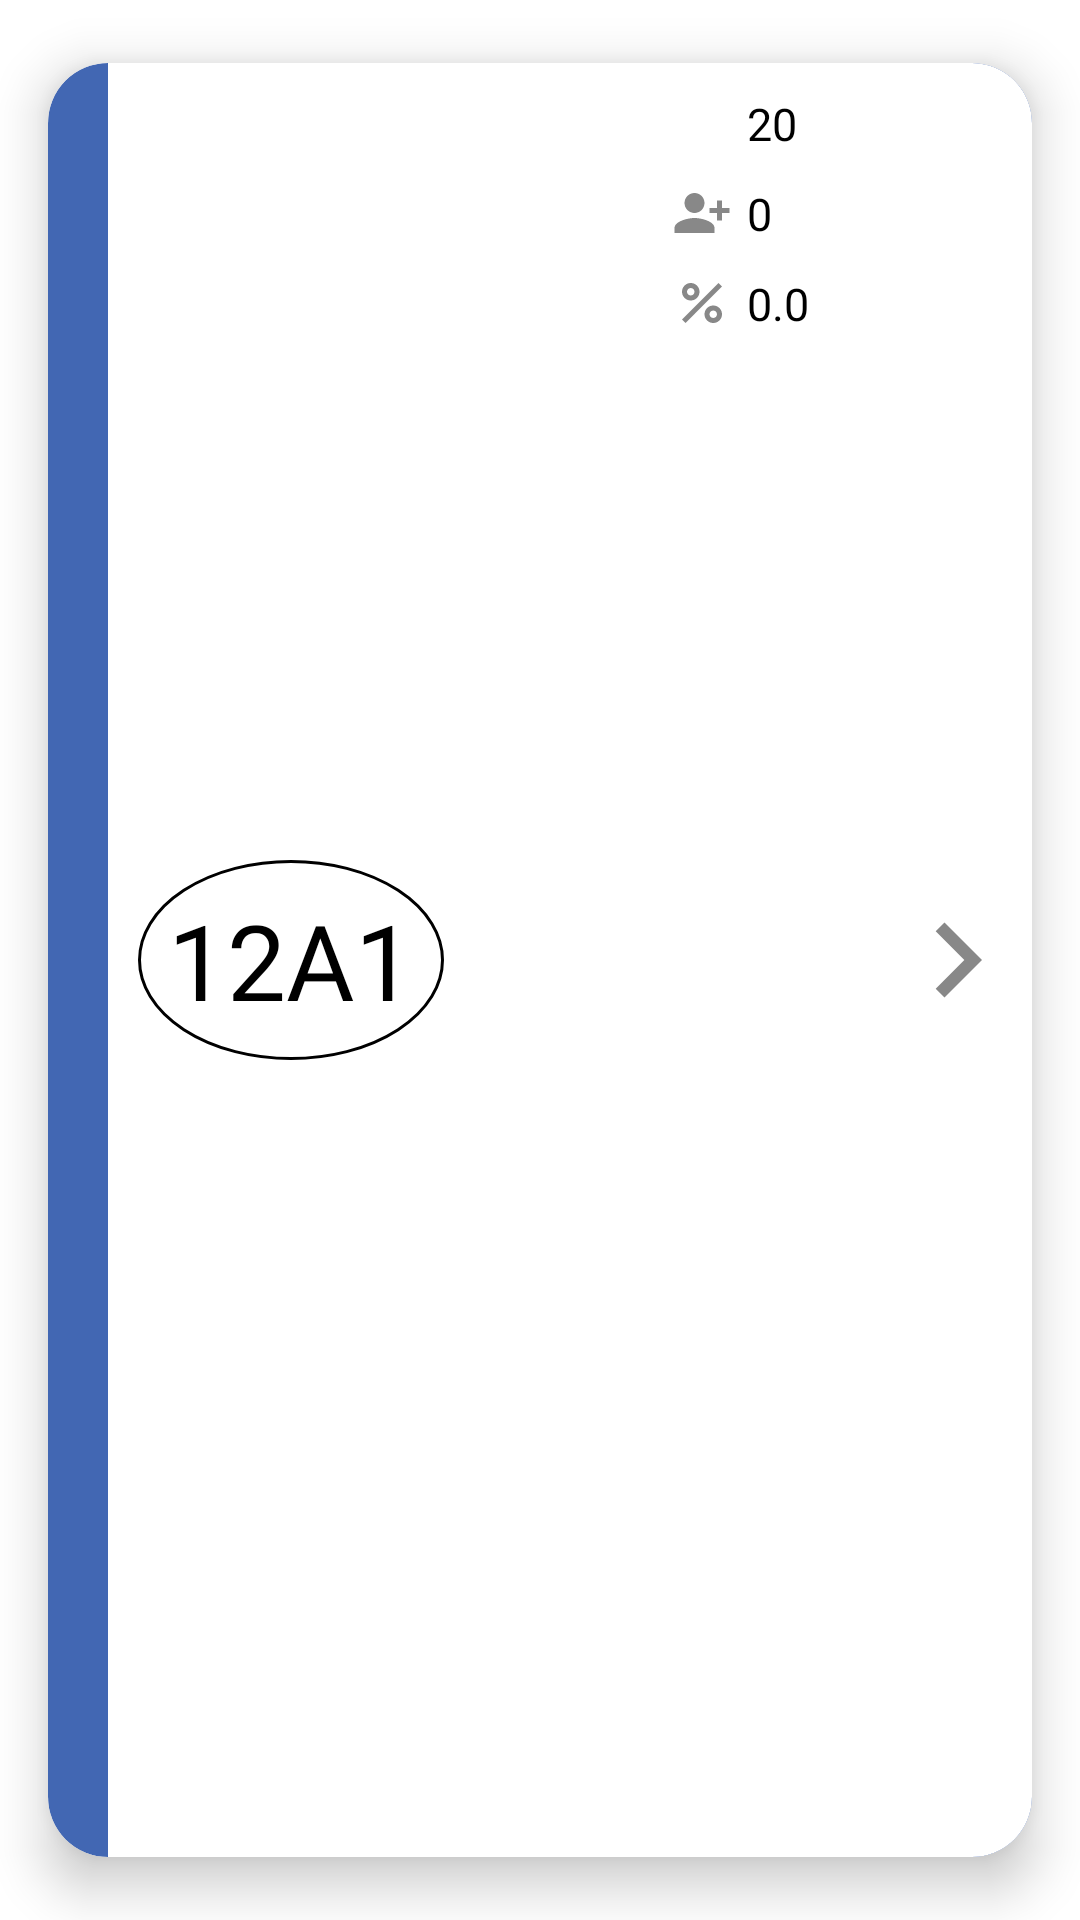

Screen size 1080 x 1920. Icon name, then its center in pixels as [x,y]:
navigate next: [959,960]
percent: [702,303]
person add: [702,213]
